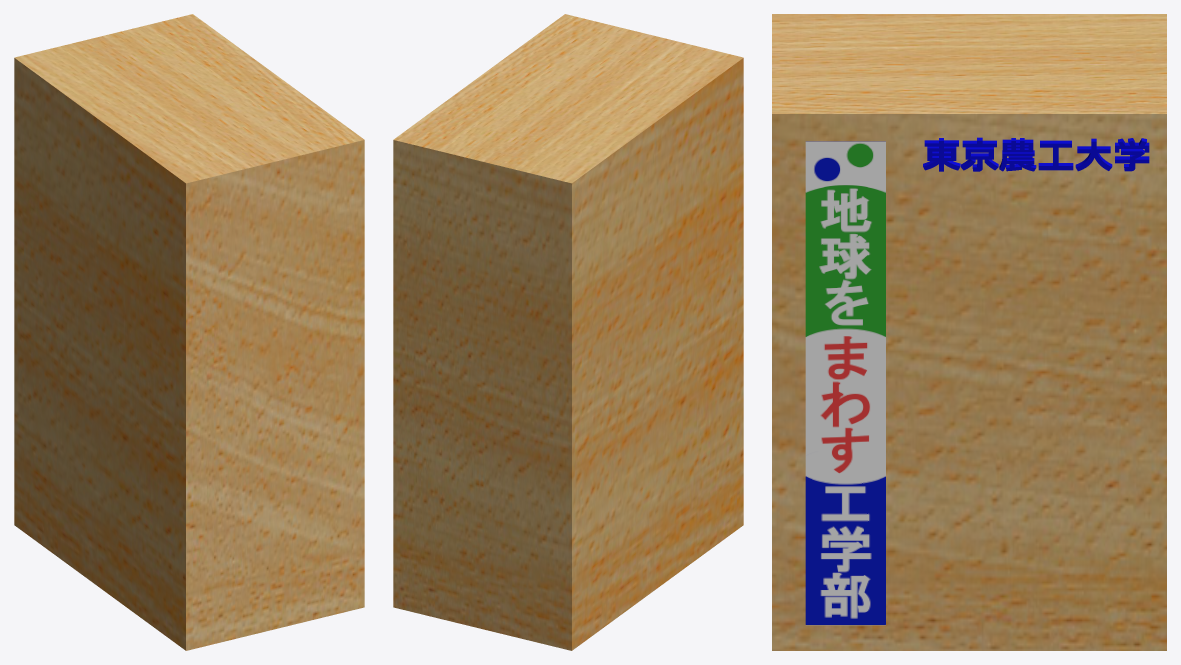
Rendered from map_objects_kousha.fbx.
The picture shows the model from 3 angles, left to right: view 1: azimuth 30°, elevation 25°; view 2: azimuth 150°, elevation 25°; view 3: azimuth 270°, elevation 25°; orthographic projection. The views are drawn at different scales.
Visible parts, largest first — view 1: 立方体.002; view 2: 立方体.002; view 3: 立方体.002.
Boxes of the visible parts, box(x1,y1,x2,y2) form: 立方体.002: box(14, 14, 364, 650); 立方体.002: box(393, 14, 743, 650); 立方体.002: box(772, 14, 1166, 650).
Size of the model in its own units: 1236 by 3000 by 2000.
3 materials, 2 textured.
